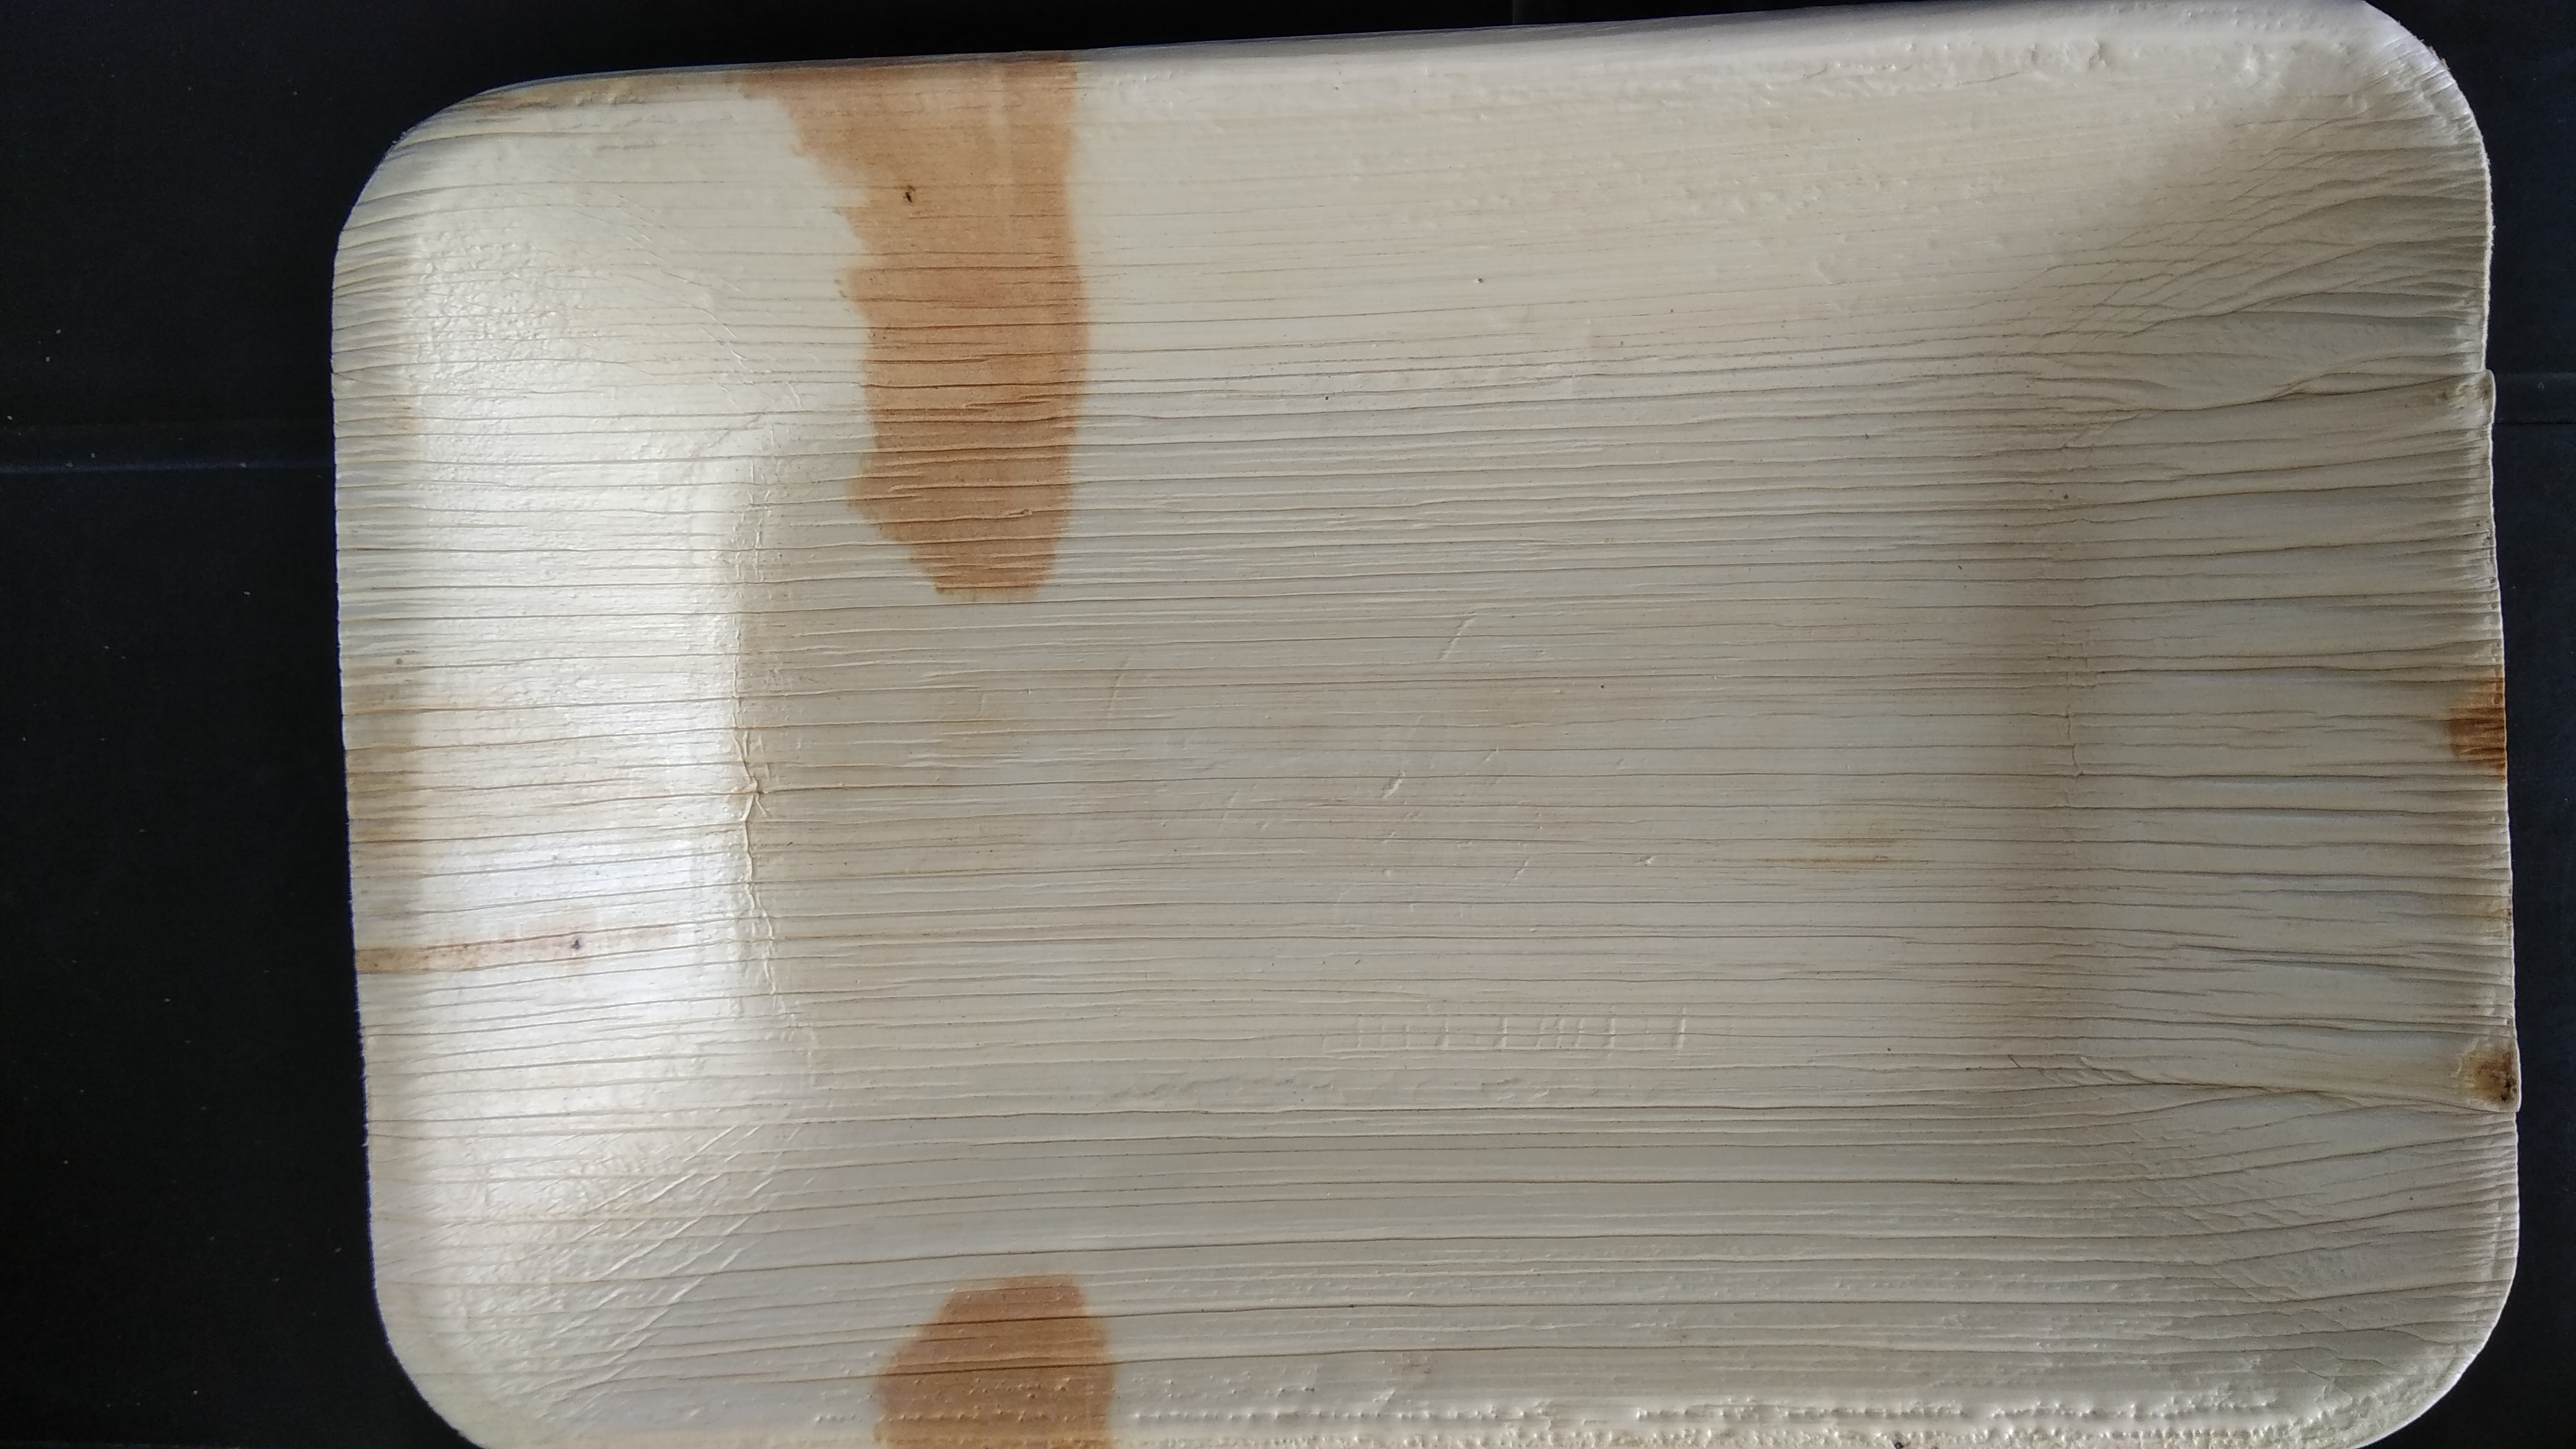areca plate: (326, 81, 2525, 1426)
